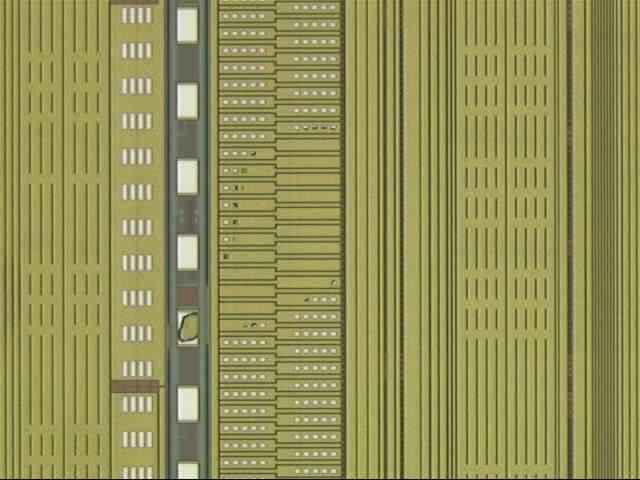BLOCK ETCH: (177, 123, 350, 347)
